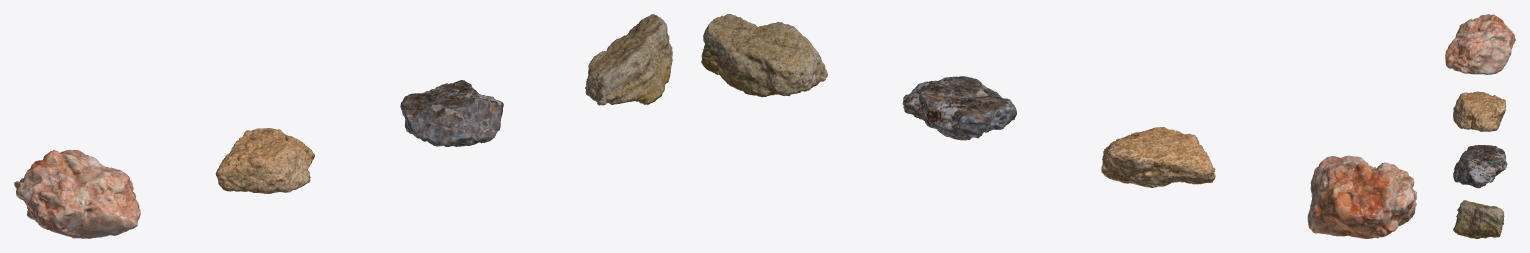
Rendered from namaqualand_rocks_01.glb.
3 renders of one model, left to right at view 1: azimuth 30°, elevation 25°; view 2: azimuth 150°, elevation 25°; view 3: azimuth 270°, elevation 25°, orthographic. The views are drawn at different scales.
Parts seen in each view (by area): view 1: namaqualand_rocks_02_a, namaqualand_rocks_02_d, namaqualand_rocks_02_c, namaqualand_rocks_02_b; view 2: namaqualand_rocks_02_d, namaqualand_rocks_02_a, namaqualand_rocks_02_b, namaqualand_rocks_02_c; view 3: namaqualand_rocks_02_a, namaqualand_rocks_02_b, namaqualand_rocks_02_c, namaqualand_rocks_02_d.
Boxes of the visible parts, box(x1,y1,x2,y2) form: namaqualand_rocks_02_a: box(14, 149, 140, 238); namaqualand_rocks_02_d: box(585, 14, 672, 105); namaqualand_rocks_02_c: box(400, 80, 503, 146); namaqualand_rocks_02_b: box(215, 128, 314, 193); namaqualand_rocks_02_d: box(701, 14, 827, 97); namaqualand_rocks_02_a: box(1307, 155, 1416, 238); namaqualand_rocks_02_b: box(1101, 127, 1215, 187); namaqualand_rocks_02_c: box(902, 76, 1016, 140); namaqualand_rocks_02_a: box(1445, 14, 1515, 74); namaqualand_rocks_02_b: box(1453, 91, 1506, 131); namaqualand_rocks_02_c: box(1453, 145, 1507, 188); namaqualand_rocks_02_d: box(1453, 200, 1504, 238).
Bounding box in the file's own units: 1.45 × 0.1525 × 0.2169.
Materials: 1 (1 with a texture image).
